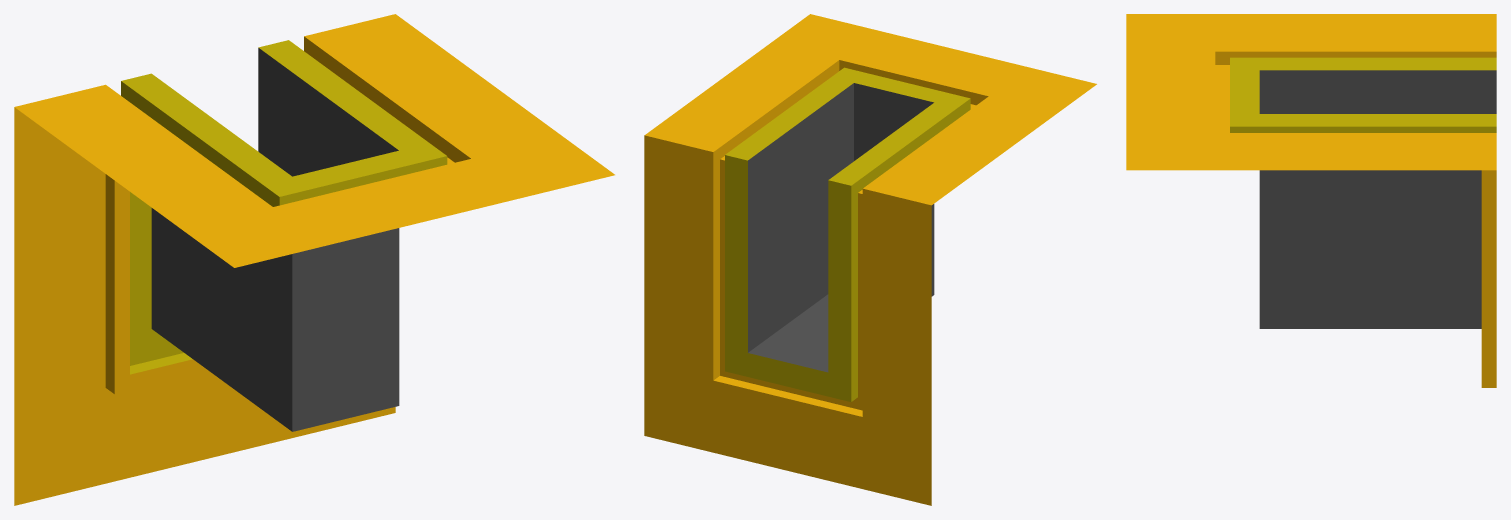
The model's file is nav_light.dae.
The picture shows the model from 3 angles, left to right: view 1: azimuth 30°, elevation 25°; view 2: azimuth 150°, elevation 25°; view 3: azimuth 270°, elevation 25°; orthographic projection. The views are drawn at different scales.
Parts seen in each view (by area): view 1: Cube; view 2: Cube; view 3: Cube.
Part boxes in pixels (<box>): Cube: <box>14,14,614,505</box>; Cube: <box>644,14,1096,505</box>; Cube: <box>1126,14,1496,387</box>.
Size of the model in its own units: 0.25 by 0.25 by 0.25.
